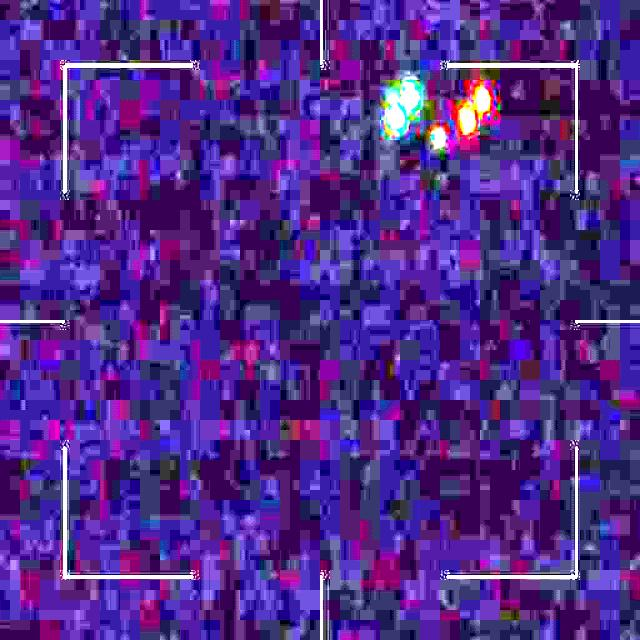bird: (386, 81, 491, 151)
